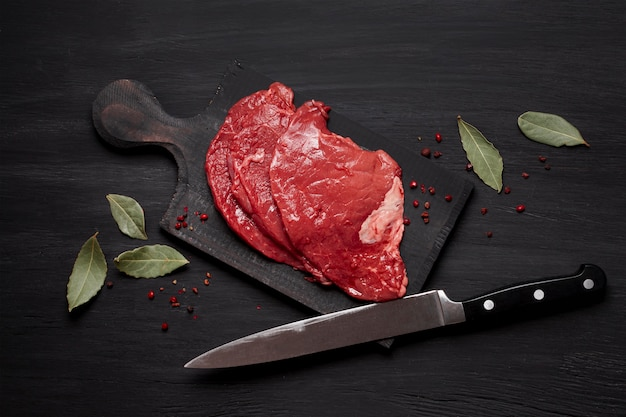knife: (183, 287, 467, 370)
